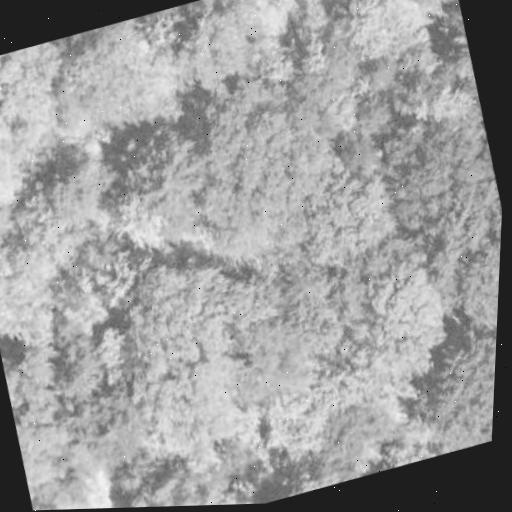tree-top: (179, 60, 355, 241), (106, 303, 270, 469), (92, 129, 227, 265), (380, 105, 506, 234), (21, 227, 149, 350), (331, 258, 452, 388), (47, 16, 173, 138), (287, 154, 412, 275), (0, 341, 97, 488), (407, 324, 497, 457), (154, 0, 268, 100), (0, 39, 82, 174), (423, 216, 502, 348), (230, 302, 321, 410), (19, 142, 128, 228), (107, 438, 240, 508), (308, 389, 409, 481), (0, 231, 84, 338), (0, 149, 30, 241), (277, 0, 359, 4)
